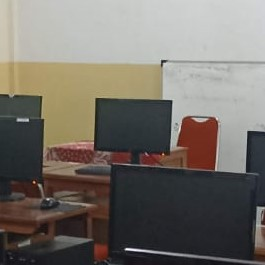monitor: (107, 163, 258, 261), (93, 98, 172, 156), (0, 95, 44, 187), (245, 130, 264, 206)
